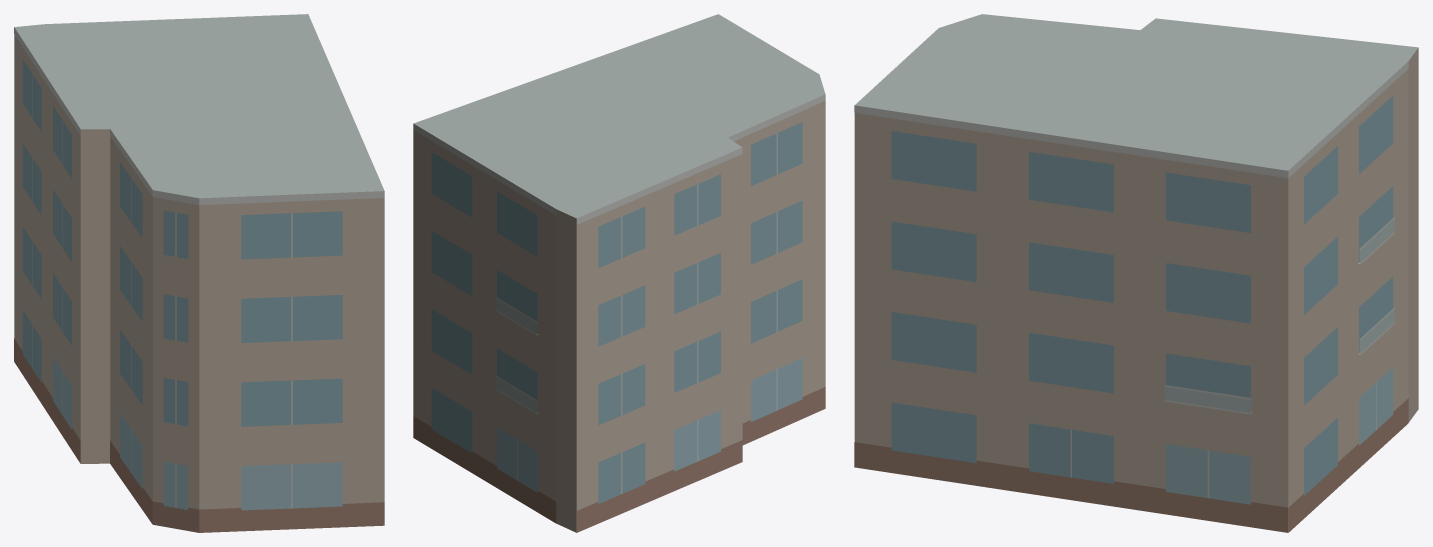
The model's file is survey-upis-32480478.glb.
3 views of the same model, side by side, from view 1: azimuth 30°, elevation 25°; view 2: azimuth 150°, elevation 25°; view 3: azimuth 270°, elevation 25° (orthographic). The views are drawn at different scales.
Parts seen in each view (by area): view 1: survey-upis-32480478.tmp; view 2: survey-upis-32480478.tmp; view 3: survey-upis-32480478.tmp.
Part boxes in pixels (x1,y1,x2,y2): survey-upis-32480478.tmp: (14,14,384,532); survey-upis-32480478.tmp: (413,14,825,532); survey-upis-32480478.tmp: (854,14,1418,532).
Size of the model in its own units: 11.07 by 11.9 by 16.81.
